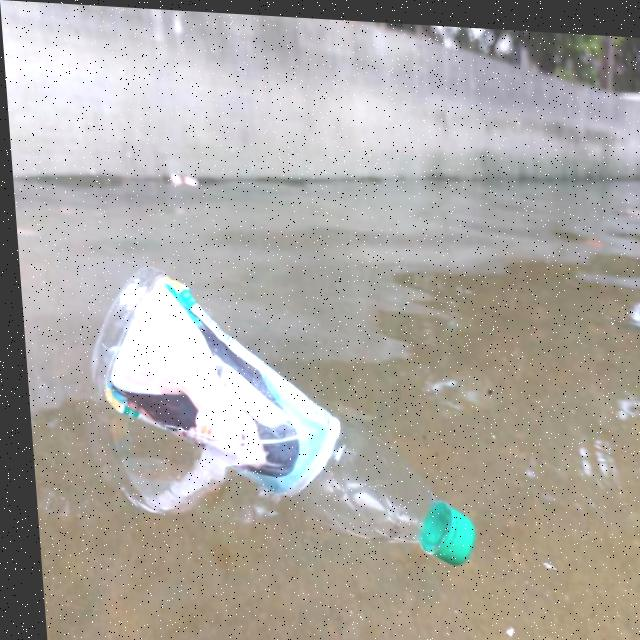waterbottle: (73, 270, 474, 581)
